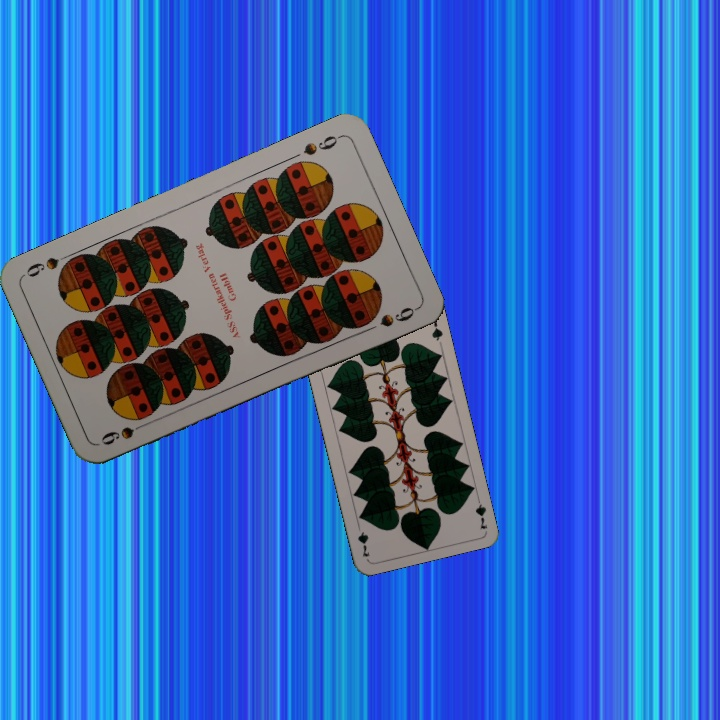G7: (471, 491, 490, 532)
S9: (97, 417, 153, 448), (299, 131, 344, 158)
